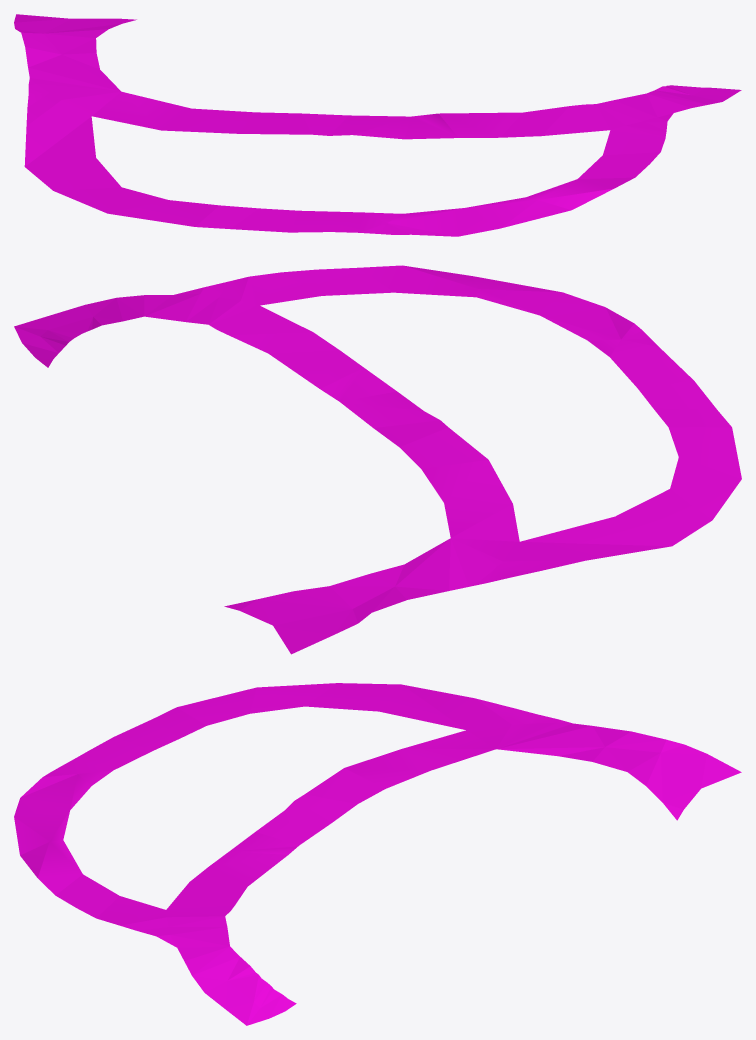
Rendered from road.fbx.
The picture shows the model from 3 angles, top to bottom: view 1: azimuth 30°, elevation 25°; view 2: azimuth 150°, elevation 25°; view 3: azimuth 270°, elevation 25°; orthographic projection. The views are drawn at different scales.
Parts seen in each view (by area): view 1: Mesh; view 2: Mesh; view 3: Mesh.
Boxes of the visible parts, x1,y1,x2,y2 form: Mesh: [14, 14, 741, 236]; Mesh: [14, 265, 741, 654]; Mesh: [14, 683, 741, 1025].
Size of the model in its own units: 272 by 15.77 by 262.
